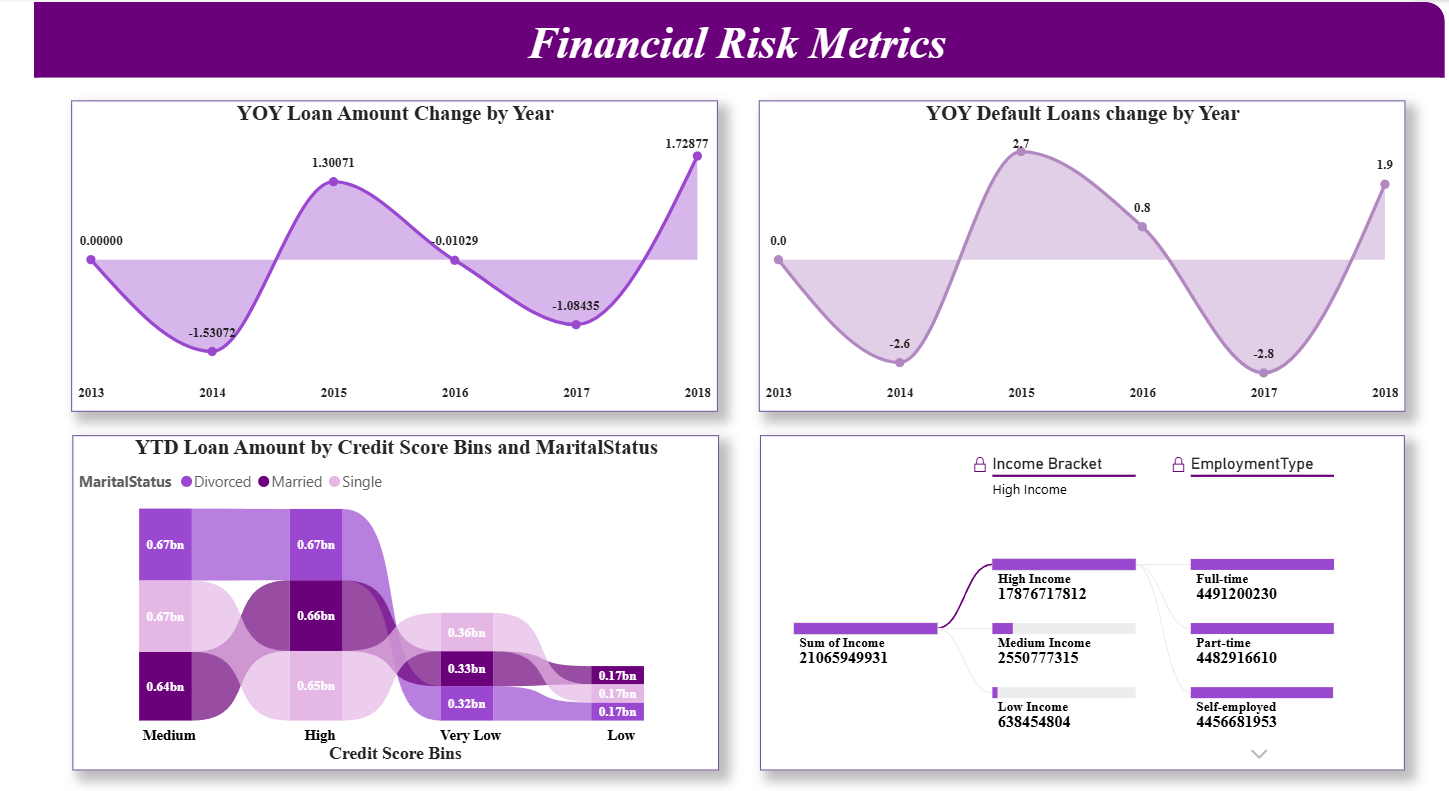

The page's visual inventory and layout, read from the dashboard file:
{"tool":"powerbi","page":{"name":"Financial Risk Metrics","canvas":[1280,720],"ordinal":2},"visuals":[{"type":"shape","box":[0,0,1280,68.8],"z":0},{"type":"lineChart","fields":{"Y":["Measures Table 3.YOY Loan Amount Change"],"Category":["Loan_default.Year"]},"box":[33.8,88.8,586.2,282.5],"z":1000},{"type":"lineChart","fields":{"Y":["Measures Table 3.YOY Default Loans change"],"Category":["Loan_default.Year"]},"box":[657.5,88.8,586.2,282.5],"z":2000},{"type":"ribbonChart","fields":{"Y":["Measures Table 3.YTD Loan Amount"],"Series":["Loan_default.MaritalStatus"],"Category":["Loan_default.Credit Score Bins"]},"box":[35,392.5,586.2,303.8],"z":3000},{"type":"decompositionTreeVisual","fields":{"Analyze":["Sum(Loan_default.Income)"],"ExplainBy":["Loan_default.Income Bracket","Loan_default.EmploymentType"]},"box":[658.8,392.5,585,303.8],"z":4000}]}

Visuals, with their boxes on the page's 1280x720 design canvas (x1, y1, x2, y2). These are canvas units, not pixel positions in the 1449x791 screenshot, which may show the page scaled, cropped or inside an application window:
shape: bbox(0, 0, 1280, 69)
lineChart - Measures Table 3.YOY Loan Amount Change x Loan_default.Year: bbox(34, 89, 620, 371)
lineChart - Measures Table 3.YOY Default Loans change x Loan_default.Year: bbox(658, 89, 1244, 371)
ribbonChart - Measures Table 3.YTD Loan Amount x Loan_default.MaritalStatus: bbox(35, 392, 621, 696)
decompositionTreeVisual - Sum(Loan_default.Income) x Loan_default.Income Bracket: bbox(659, 392, 1244, 696)
